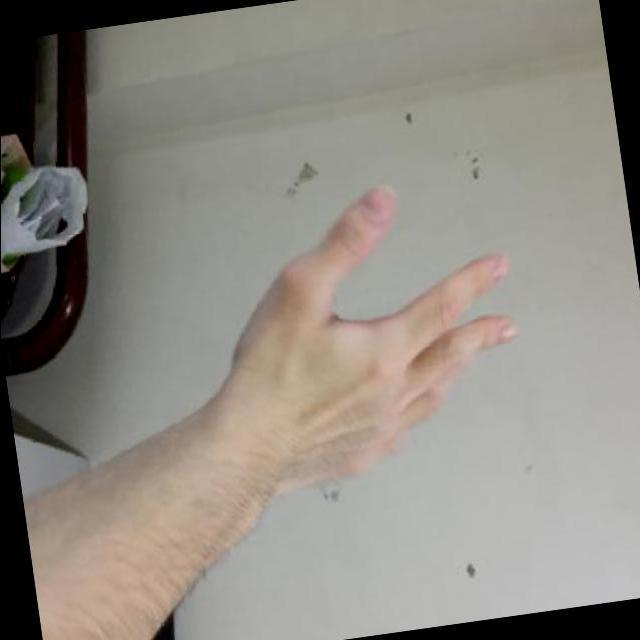hand: (166, 159, 554, 528)
